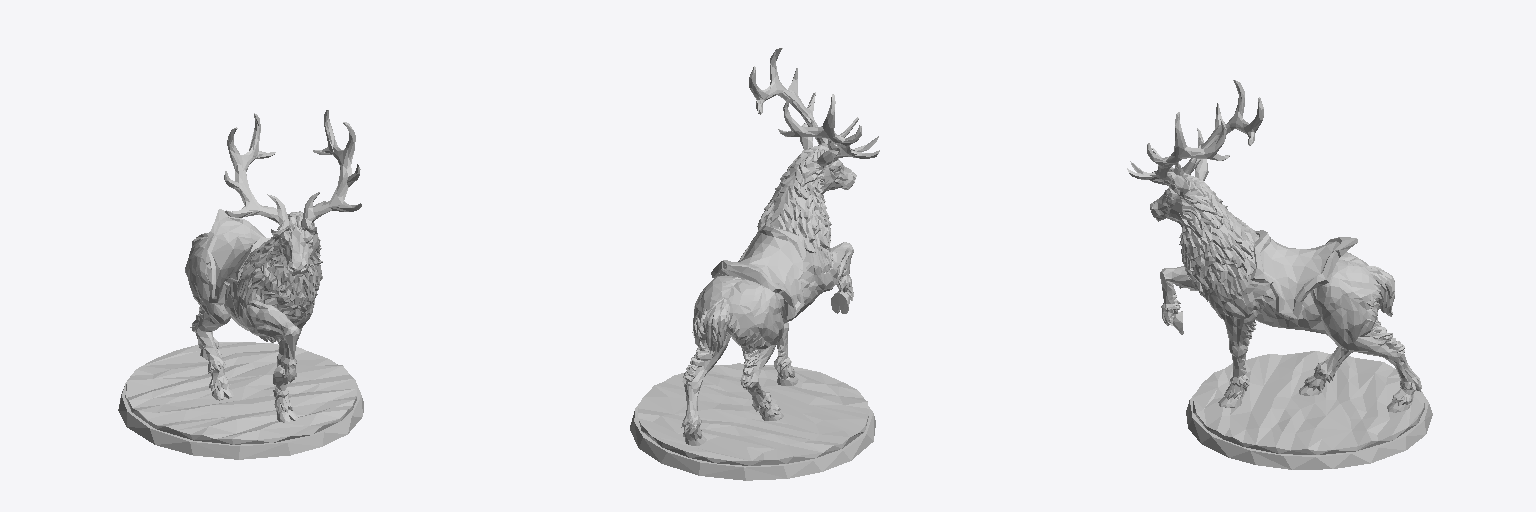
Rendered from Ramses v1.obj.
3 views of the same model, side by side, from view 1: azimuth 30°, elevation 25°; view 2: azimuth 150°, elevation 25°; view 3: azimuth 270°, elevation 25° (orthographic).
Visible parts, largest first — view 1: Ramses; view 2: Ramses; view 3: Ramses.
Boxes of the visible parts, x1=… form: Ramses: x1=118, y1=110, x2=363, y2=459; Ramses: x1=630, y1=48, x2=879, y2=480; Ramses: x1=1127, y1=80, x2=1432, y2=469.
Size of the model in its own units: 0.9114 by 1.33 by 1.14.